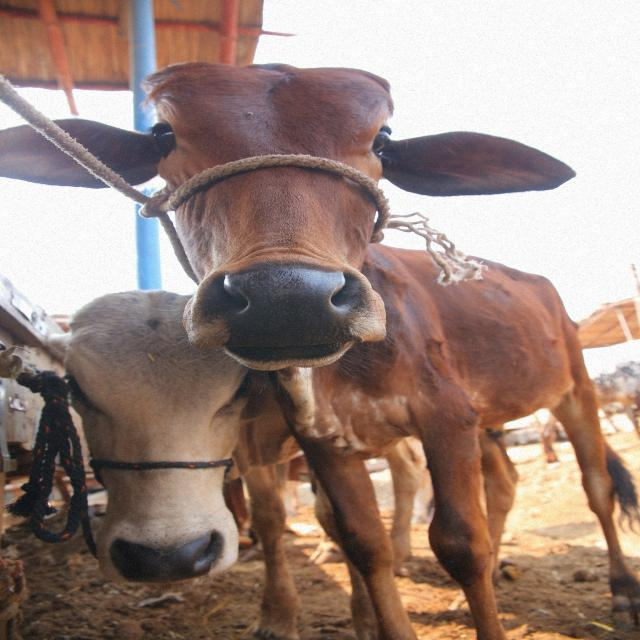muzzles: (192, 262, 379, 357), (104, 530, 235, 585)
